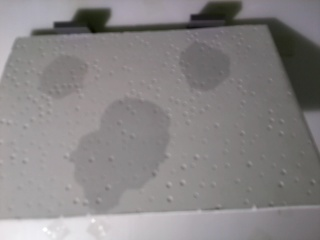Water_detected: (94, 105, 169, 193), (190, 56, 219, 86), (59, 69, 91, 90)
